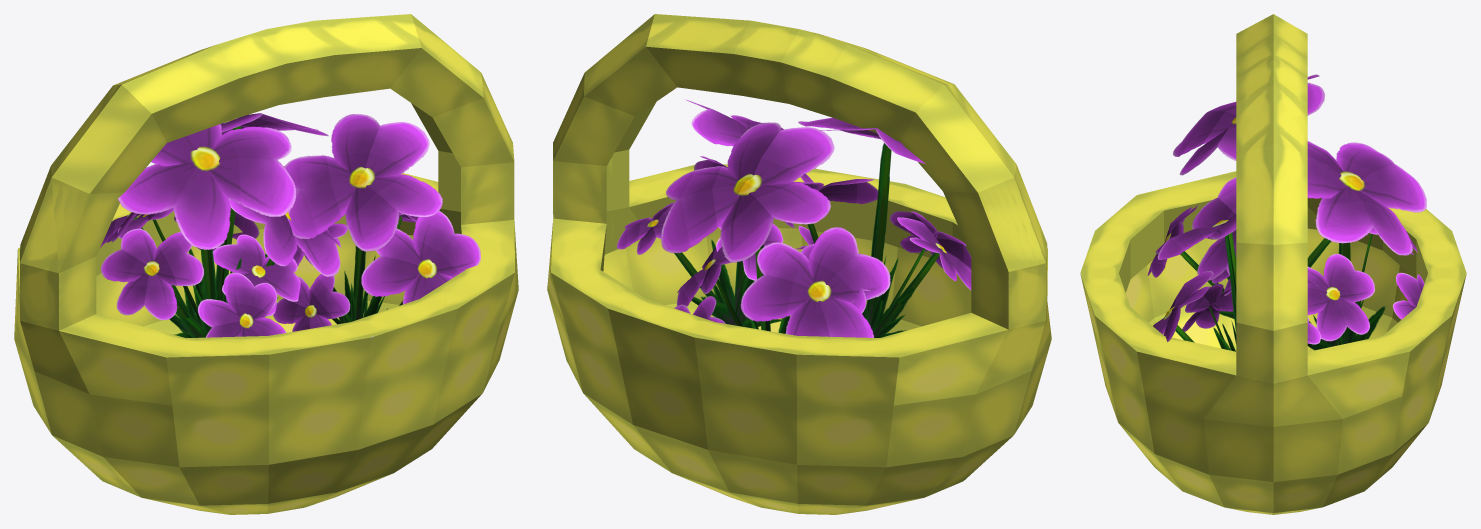
Rendered from Flores.glb.
3 renders of one model, left to right at view 1: azimuth 30°, elevation 25°; view 2: azimuth 150°, elevation 25°; view 3: azimuth 270°, elevation 25°, orthographic. The views are drawn at different scales.
Parts seen in each view (by area): view 1: Canasta; view 2: Canasta; view 3: Canasta.
Boxes of the visible parts, x1=… form: Canasta: x1=14, y1=14, x2=518, y2=514; Canasta: x1=547, y1=14, x2=1051, y2=514; Canasta: x1=1080, y1=14, x2=1466, y2=514.
Size of the model in its own units: 40.14 by 36.13 by 29.63.
Materials: 2 (2 with a texture image).
